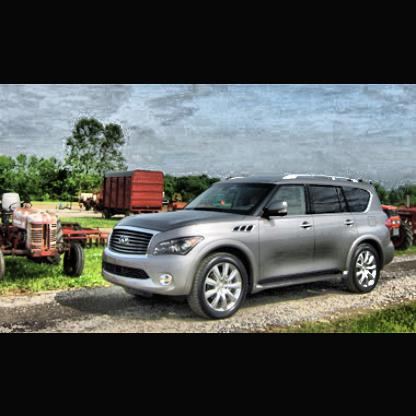Infiniti QX56 SUV 2011: (102, 174, 399, 323)
